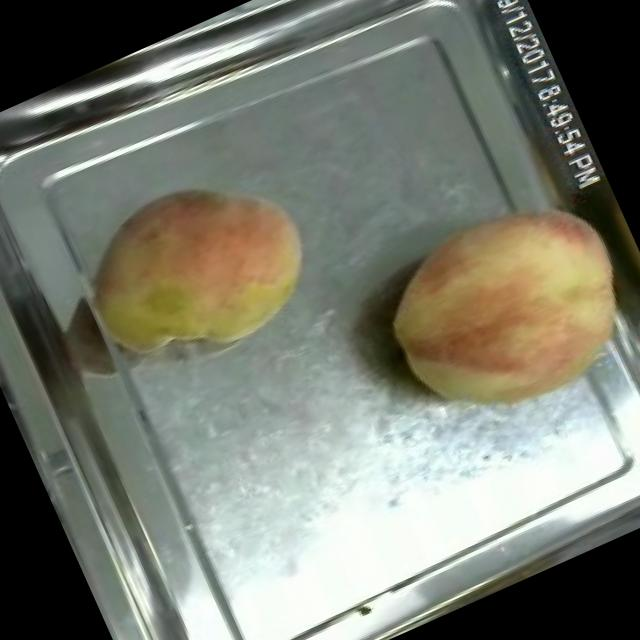Fruit: (353, 164, 640, 454), (60, 144, 342, 401)
